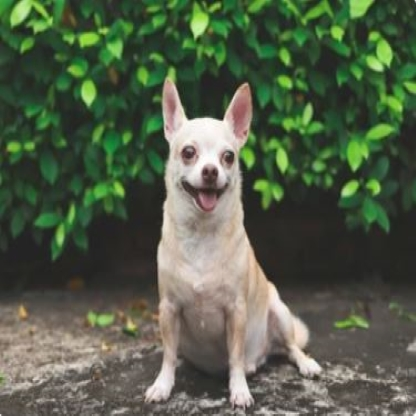chihuahua: (141, 75, 328, 410)
